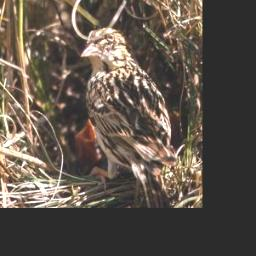Sparrow: (78, 27, 179, 207)
